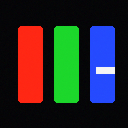3 line_h: (96, 67, 114, 73)
